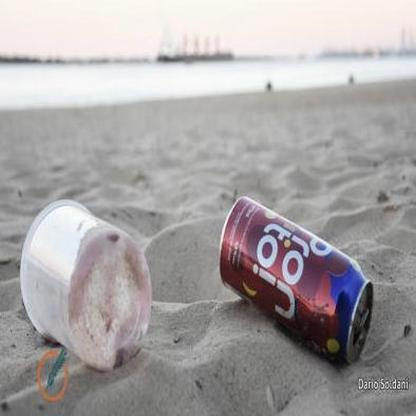can: (218, 195, 374, 366)
